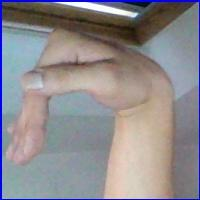del: (2, 23, 172, 178)
